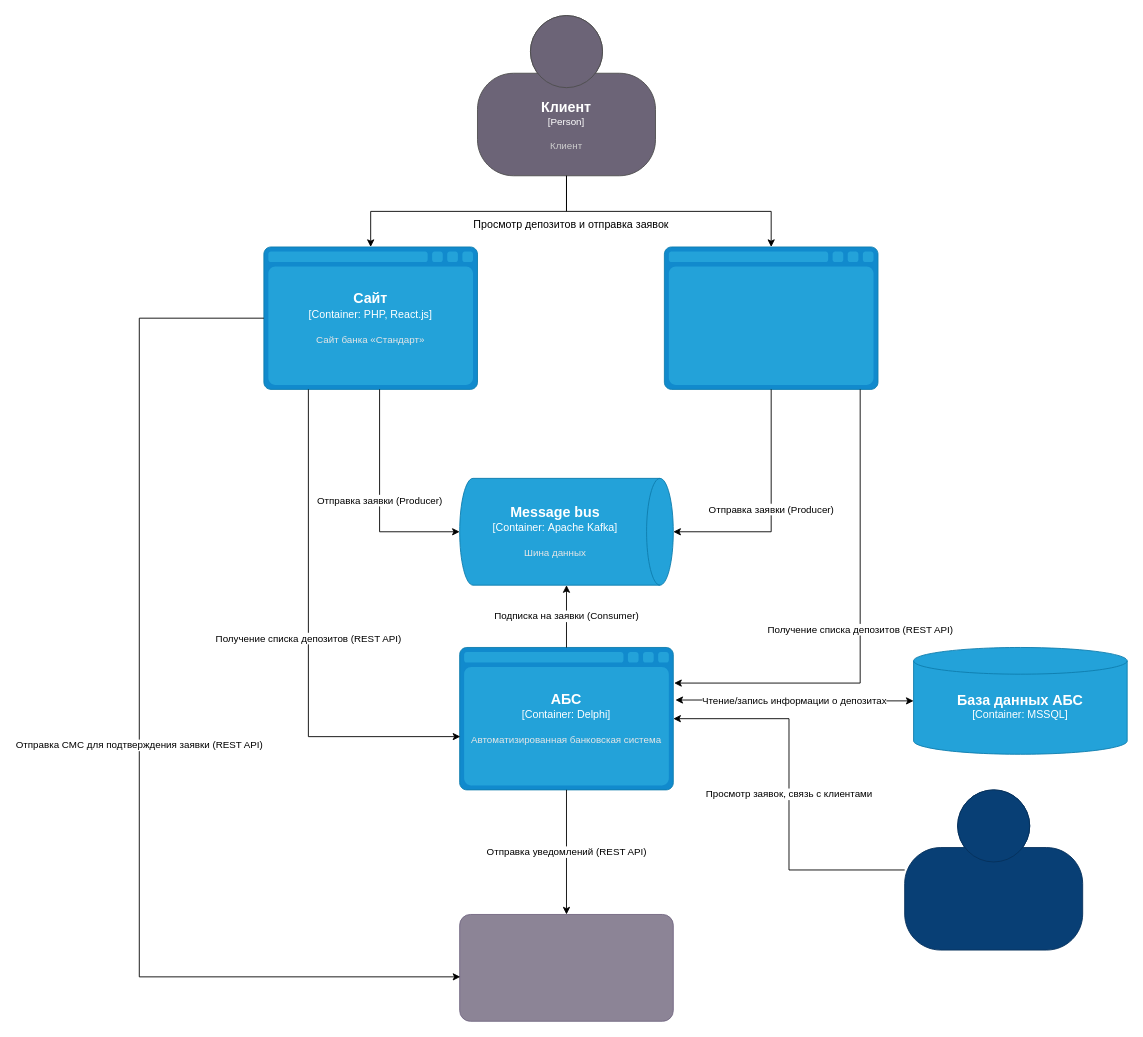
Image size: 1143x1037. Some labels were removed from this diagram. The centre of each missing label's shape, as x and y in pixels:
Интернет-банк [Container: ASP.NET 4.5] "Толстый" клиент: point (770, 317)
Менеджер [Person] Клиентский менеджер: point (993, 869)
СМС шлюз [Software System] Внешний смс шлюз: point (566, 967)
